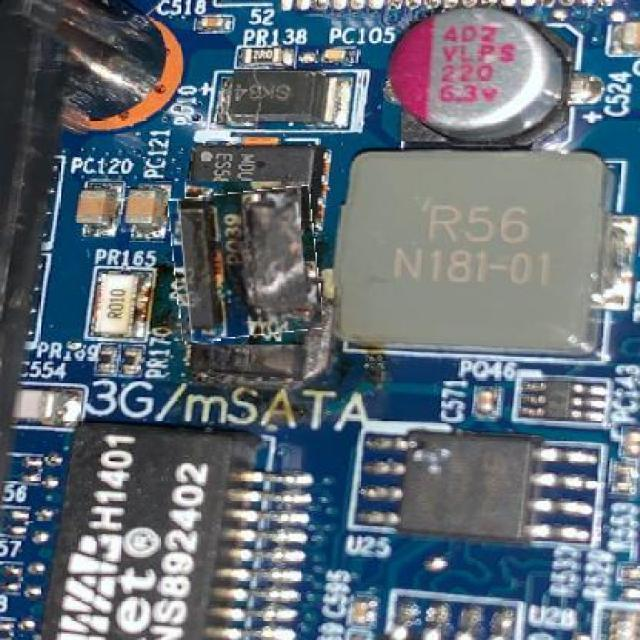Burn: (172, 188, 321, 339)
